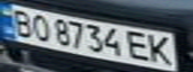3: (81, 22, 106, 55)
4: (103, 25, 127, 58)
7: (66, 19, 87, 49)
8: (48, 16, 72, 47)
B: (6, 7, 39, 38)
E: (124, 29, 154, 63)
K: (145, 33, 178, 66)
O: (27, 12, 54, 43)
